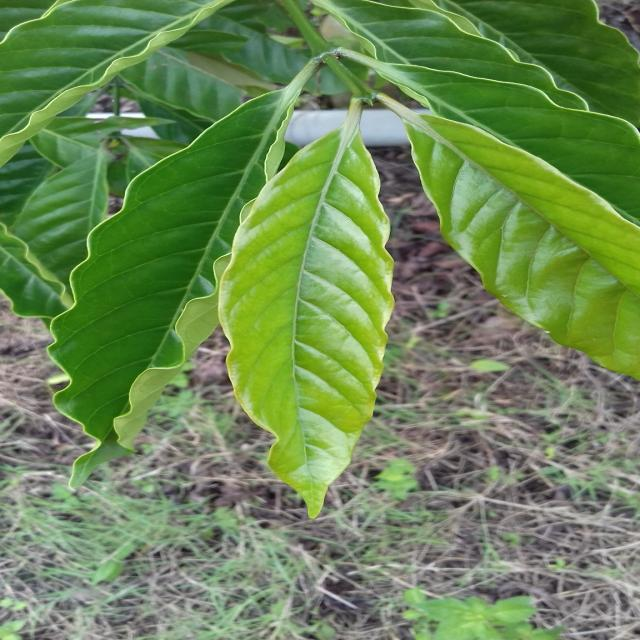Sanas: (228, 101, 395, 519)
